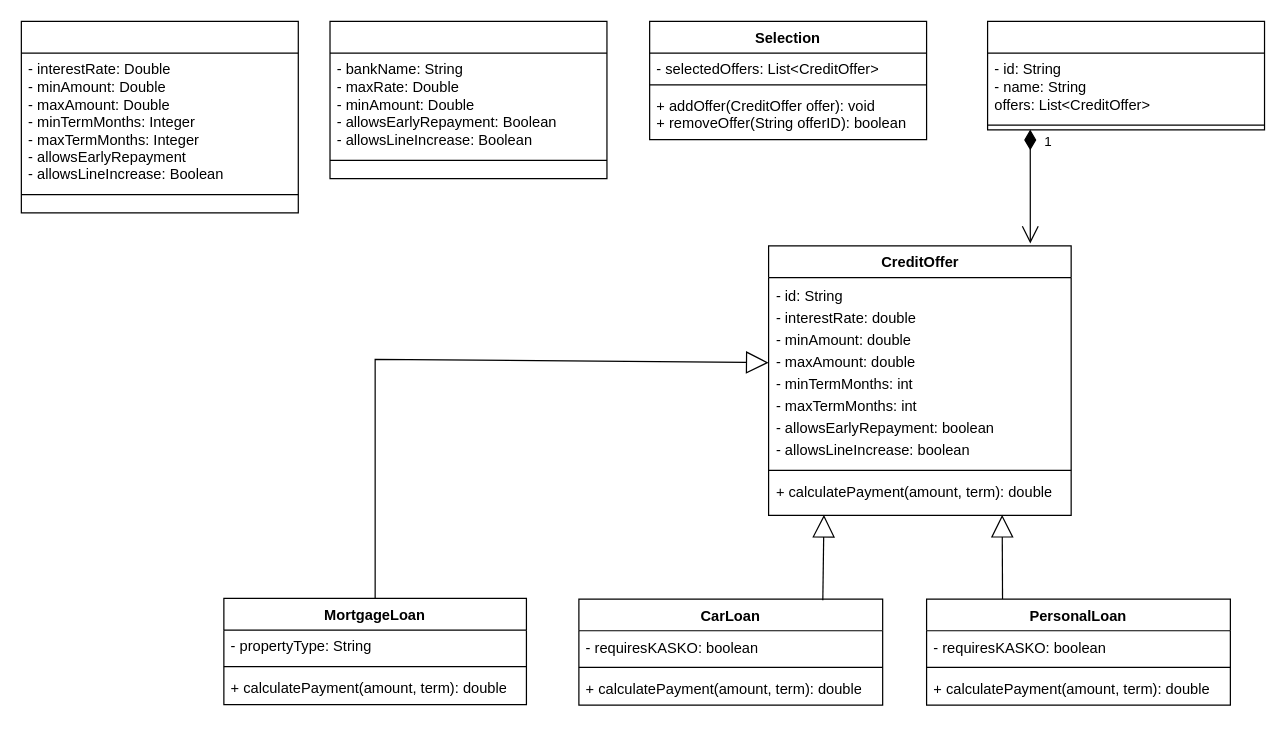
The diagram is 1286 pixels wide and 730 high, and some of its shapes have lost their labels. The box of each missing label's shape, as (x1, y1, x2, y2) in pixels:
Bank: (986, 20, 1265, 130)
OfferUpdate: (20, 20, 298, 213)
SearchCriteria: (329, 20, 607, 179)
